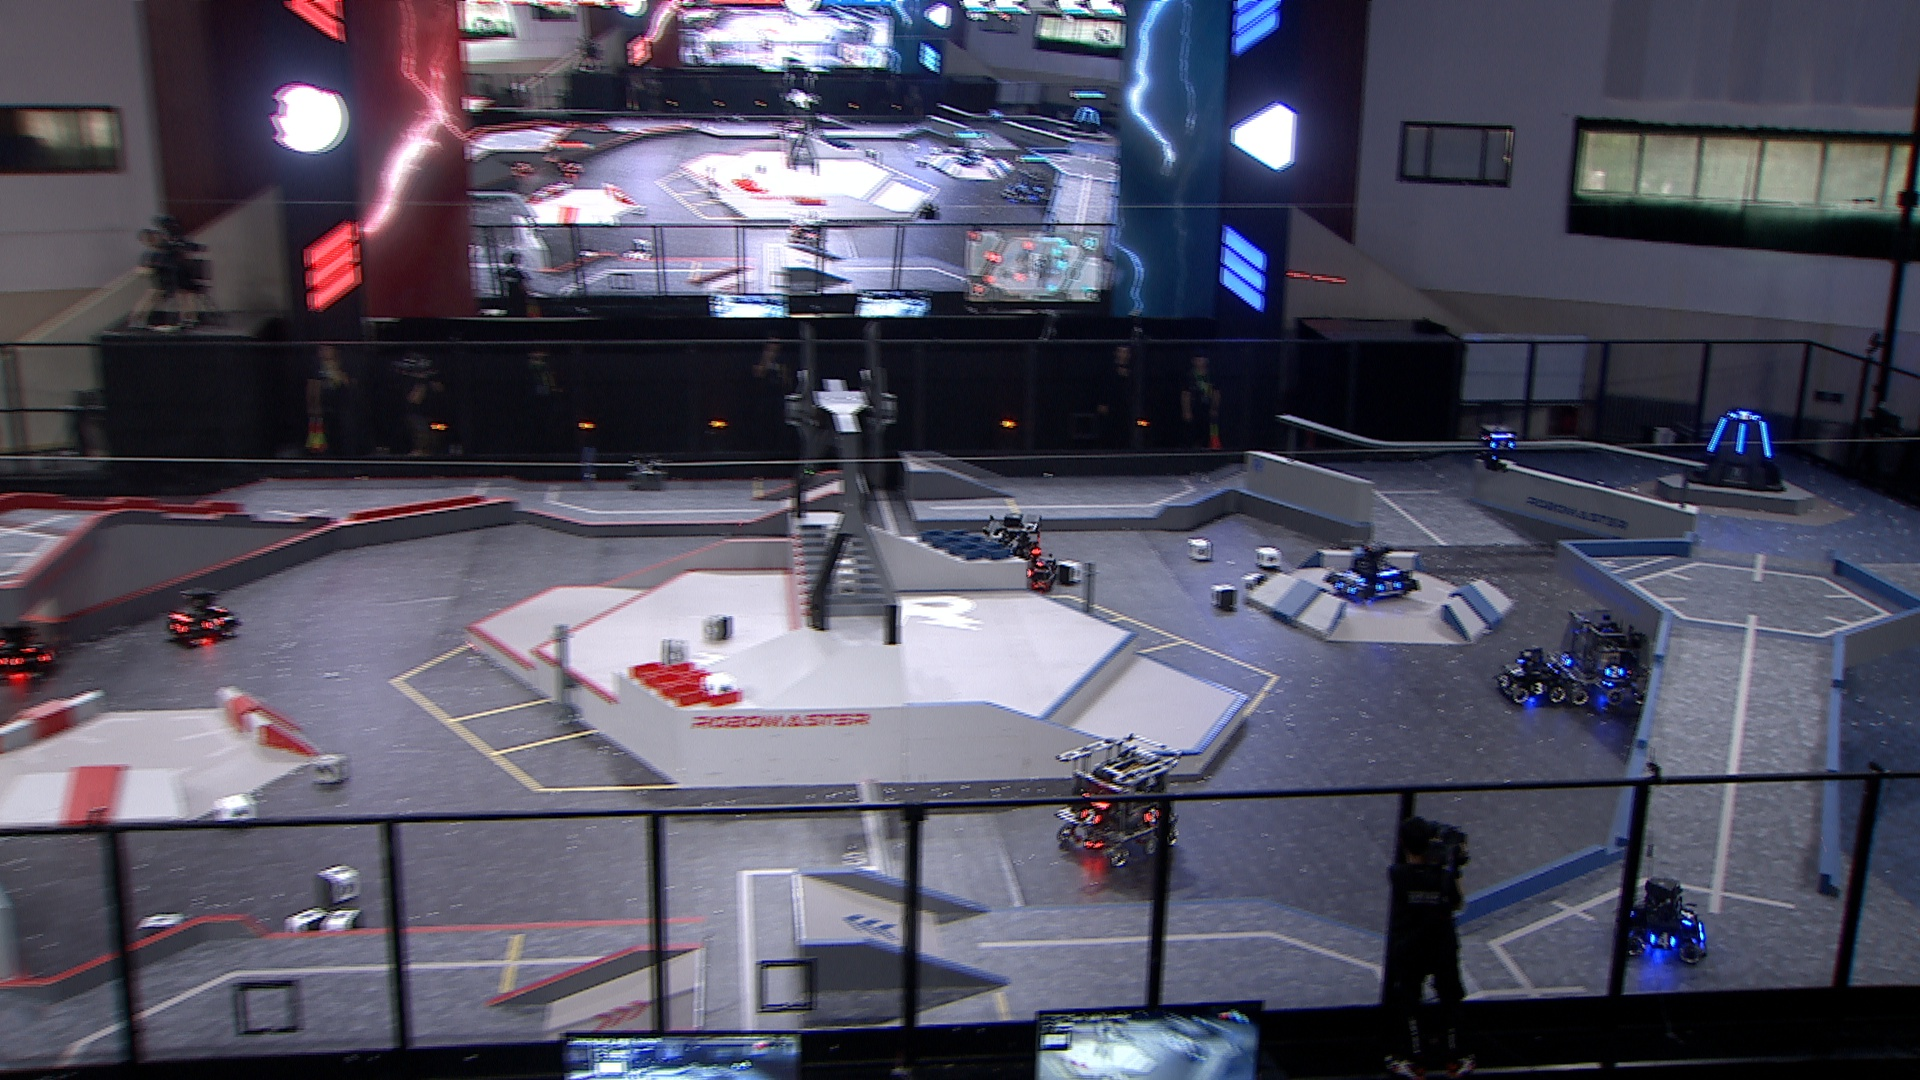armor: (1705, 414, 1727, 454), (1647, 930, 1676, 949), (1731, 422, 1749, 455), (1760, 419, 1774, 460), (1076, 808, 1102, 828), (1487, 438, 1515, 454), (1727, 409, 1759, 422), (1373, 580, 1404, 593), (200, 617, 228, 632), (1332, 582, 1357, 597), (1680, 906, 1697, 928), (1141, 806, 1162, 823), (166, 621, 190, 636), (22, 641, 45, 655), (1604, 665, 1626, 679), (1557, 651, 1575, 669), (1532, 683, 1547, 698), (1498, 674, 1513, 688), (1509, 665, 1523, 678)
base: (1683, 407, 1788, 495)
car: (1054, 731, 1179, 870), (1564, 607, 1660, 708), (1614, 876, 1708, 965), (975, 514, 1058, 593), (1321, 538, 1419, 605), (160, 585, 247, 644), (1493, 644, 1571, 705)
ignore: (1000, 169, 1050, 204), (785, 210, 828, 249), (1068, 105, 1102, 135), (953, 145, 984, 167), (506, 160, 535, 175), (556, 158, 582, 175)
watcher: (1476, 425, 1516, 471)
